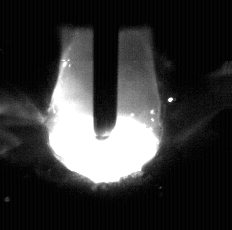arame: (94, 0, 119, 139)
poca: (48, 0, 162, 230)
